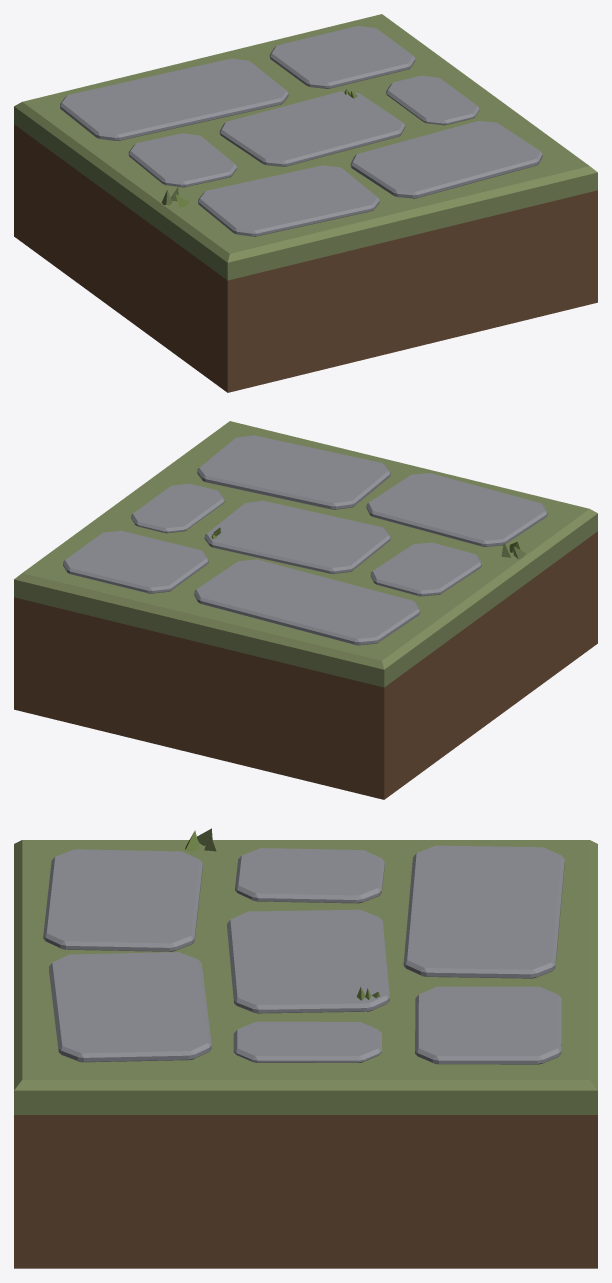
The model's file is Build Ground B.fbx.
3 views of the same model, one above another, from view 1: azimuth 30°, elevation 25°; view 2: azimuth 150°, elevation 25°; view 3: azimuth 270°, elevation 25° (orthographic). The views are drawn at different scales.
Visible parts, largest first — view 1: Build Ground B; view 2: Build Ground B; view 3: Build Ground B.
Part boxes in pixels (x1,y1,x2,y2): Build Ground B: [14, 14, 597, 392]; Build Ground B: [14, 421, 597, 799]; Build Ground B: [14, 828, 597, 1268].
Size of the model in its own units: 1 by 0.3835 by 1.
